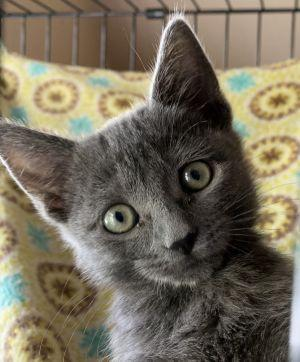rblue: (1, 13, 258, 303)
